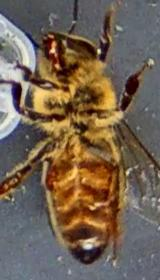varroa_mite: (36, 162, 64, 190)
